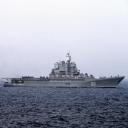Portanaves: (3, 53, 128, 90)
